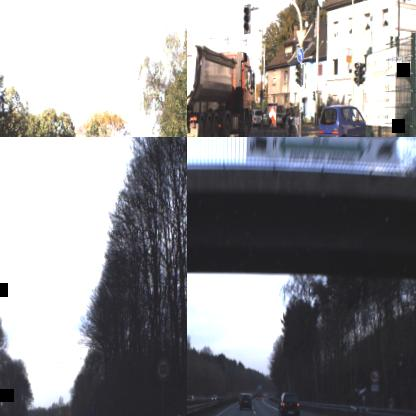give way: (296, 30, 306, 48)
go left or straight: (296, 48, 303, 62)
no overtaking: (370, 368, 380, 386)
speed limit 100: (155, 356, 171, 382)
